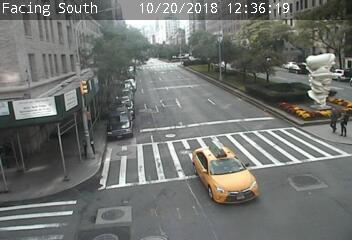car: (191, 147, 260, 203)
